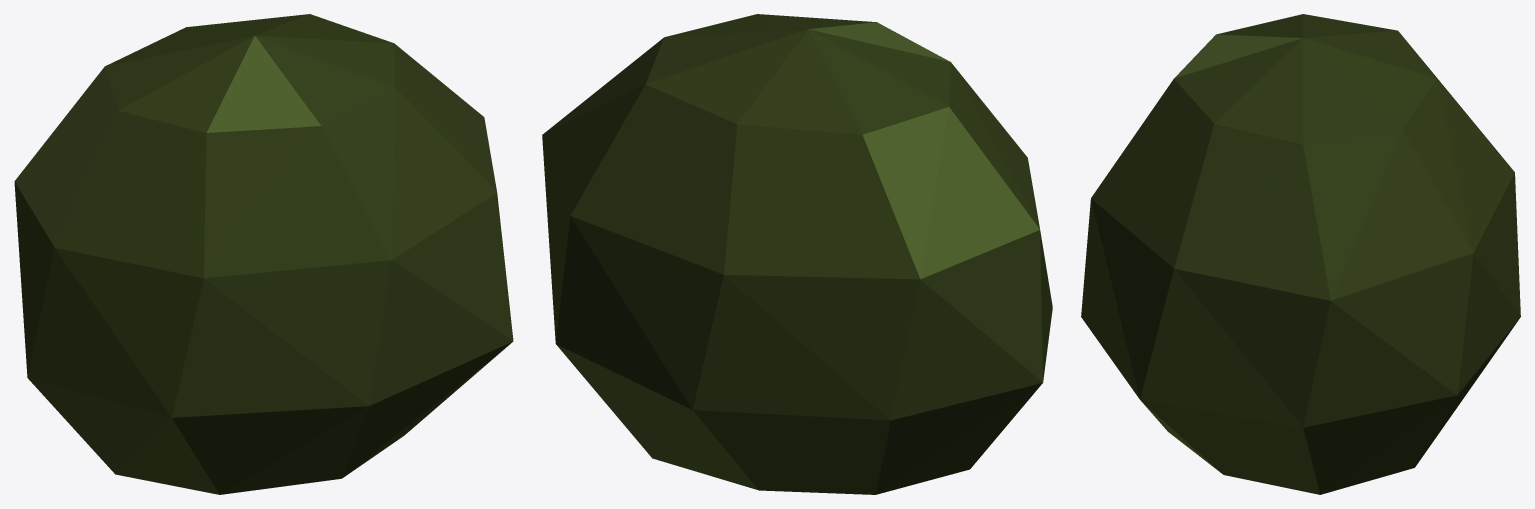
Rendered from Bush_Round_02.fbx.
The picture shows the model from 3 angles, left to right: view 1: azimuth 30°, elevation 25°; view 2: azimuth 150°, elevation 25°; view 3: azimuth 270°, elevation 25°; orthographic projection. The views are drawn at different scales.
Parts seen in each view (by area): view 1: Bush_Round_02_Mesh; view 2: Bush_Round_02_Mesh; view 3: Bush_Round_02_Mesh.
Boxes of the visible parts, bbox=[...] form: Bush_Round_02_Mesh: bbox=[14, 14, 513, 494]; Bush_Round_02_Mesh: bbox=[542, 14, 1052, 494]; Bush_Round_02_Mesh: bbox=[1081, 14, 1520, 494].
Bounding box in the file's own units: 1.17 × 1.04 × 0.9728.
Materials: 1 (1 with a texture image).
